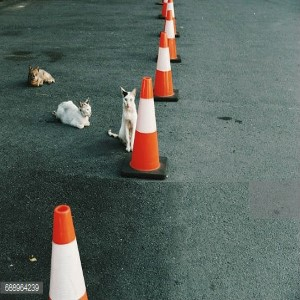traffic cone: (121, 77, 167, 181), (49, 204, 87, 300), (148, 31, 179, 101), (156, 11, 181, 62), (159, 1, 182, 37)
